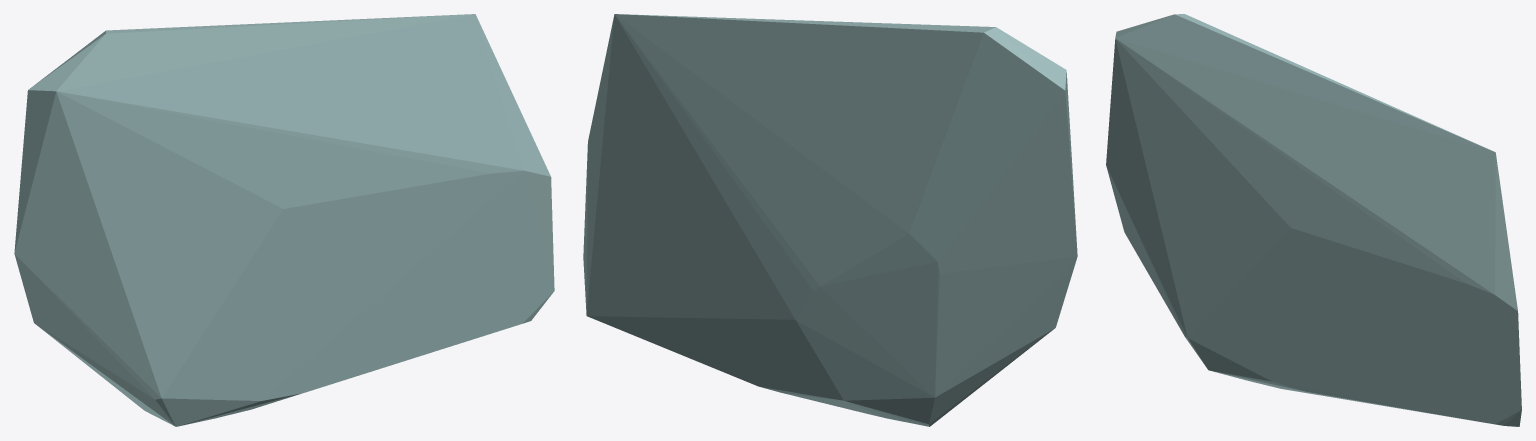
Rendered from testingTool_obdII_scanner_c01.glb.
3 views of the same model, side by side, from view 1: azimuth 30°, elevation 25°; view 2: azimuth 150°, elevation 25°; view 3: azimuth 330°, elevation 25° (orthographic). The views are drawn at different scales.
Parts seen in each view (by area): view 1: geometry_0; view 2: geometry_0; view 3: geometry_0.
Boxes of the visible parts, bbox=[...] form: geometry_0: bbox=[14, 14, 554, 426]; geometry_0: bbox=[583, 14, 1077, 426]; geometry_0: bbox=[1106, 14, 1521, 426].
Bounding box in the file's own units: 0.4622 × 0.3459 × 0.0668.
